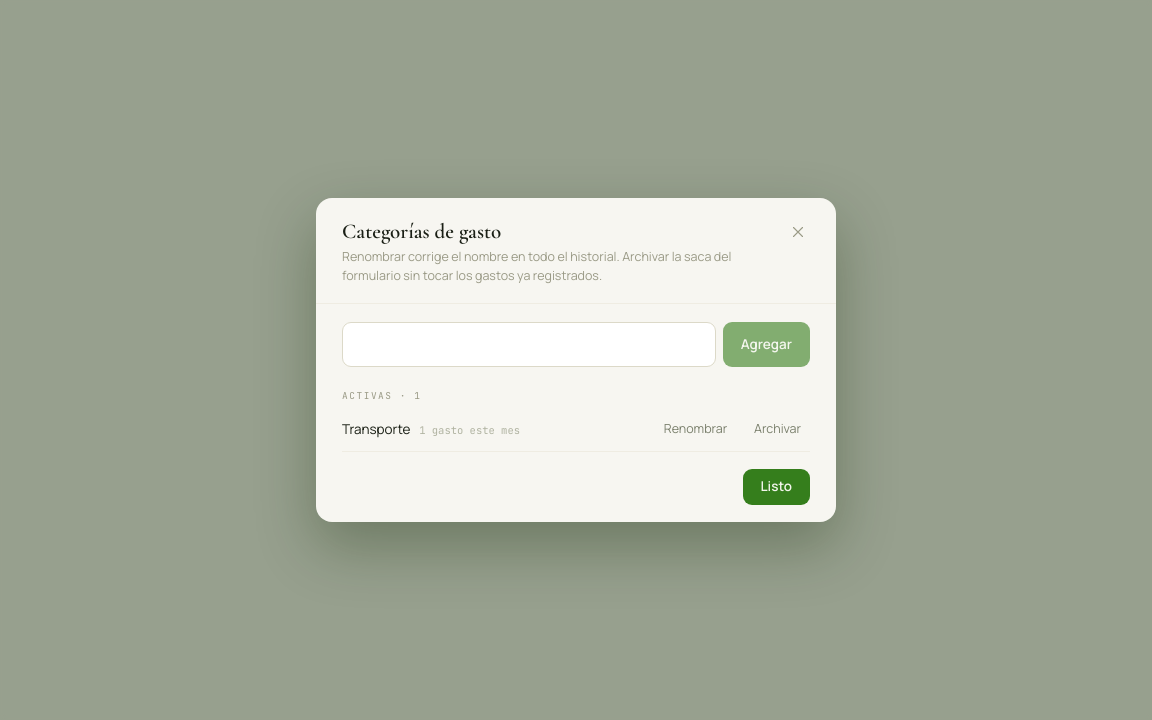
CategoryManagerModal › archiving › reads a single expense in the singular
The image size is (1152, 720).
Click the button with aria-label "Archivar Transporte": coordinates (778, 430) [745, 417, 810, 442]
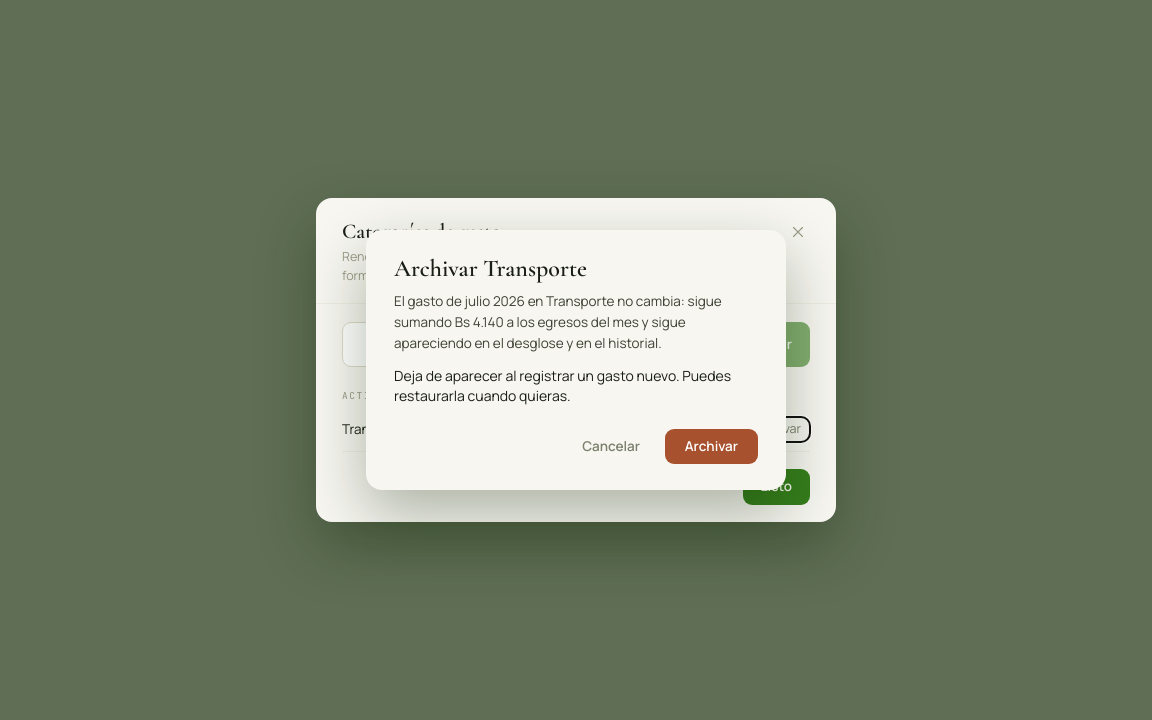
Expected: the text "El gasto de julio 2026 en Transporte no cambia: sigue sumando Bs 4.140 a los egresos del mes y sigue apareciendo en el d" is shown, [394, 292, 722, 352]
